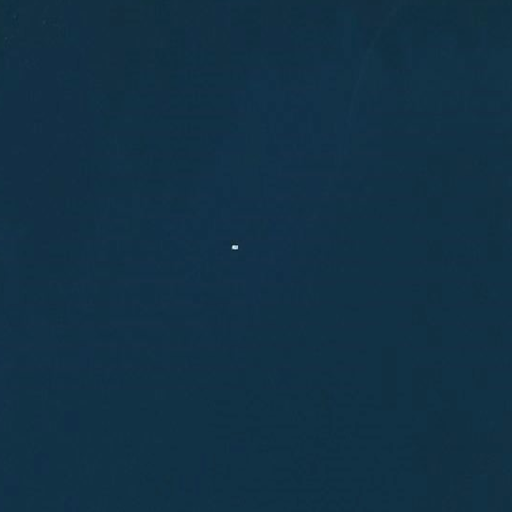ship: (229, 242, 239, 252)
